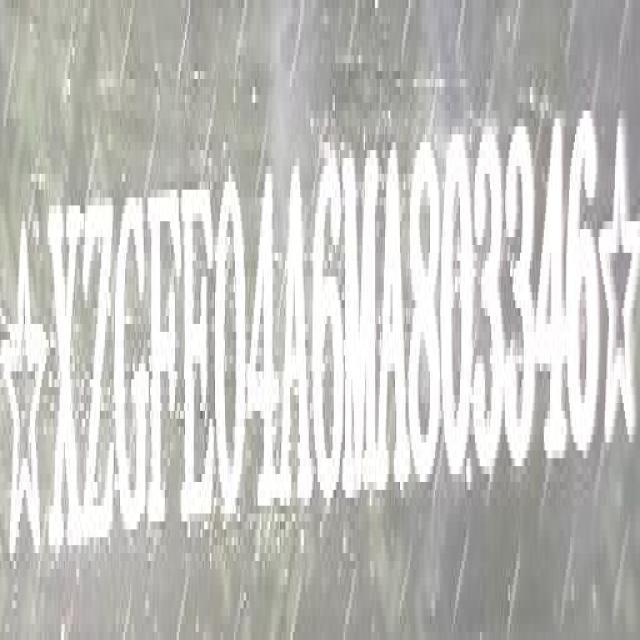0: (439, 132, 475, 496), (215, 175, 248, 532)
3: (503, 120, 538, 483), (474, 124, 504, 489)
4: (536, 106, 569, 494), (250, 162, 282, 526)
6: (567, 102, 599, 466), (312, 146, 343, 516)
8: (408, 135, 442, 495)
A: (280, 155, 314, 518), (380, 132, 409, 500)
E: (179, 167, 217, 541)
F: (150, 181, 182, 545)
G: (115, 188, 148, 548)
M: (342, 138, 378, 500)
X: (48, 187, 82, 556)
Z: (82, 179, 115, 553)
